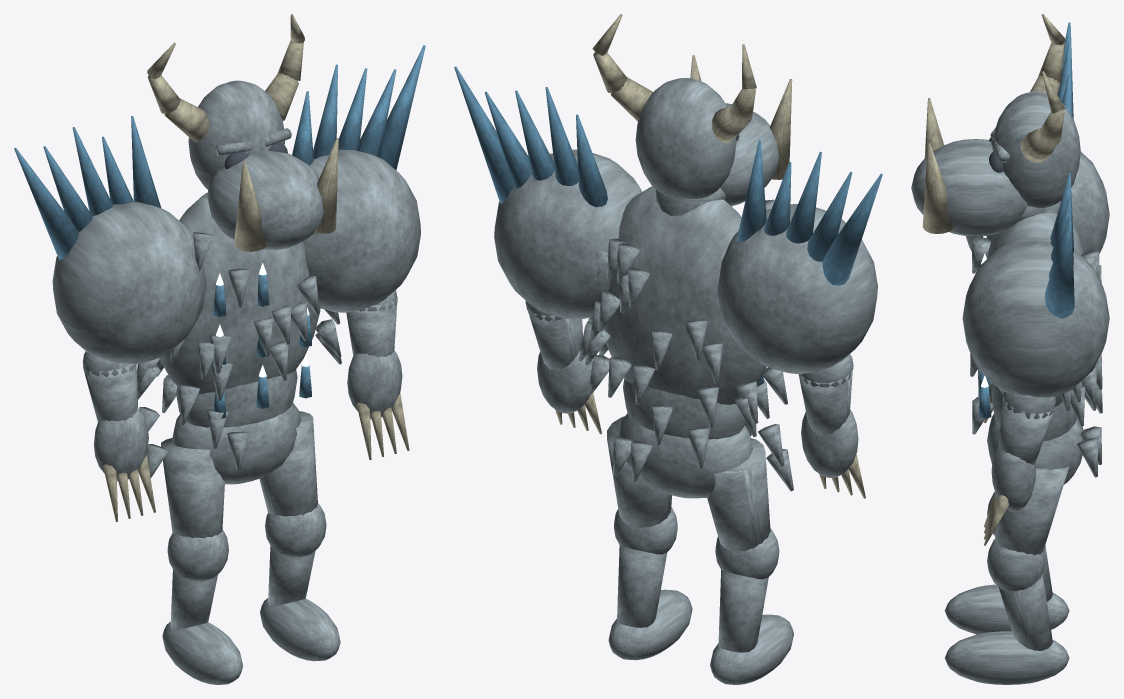
File: enemy_snow_devourer.glb
The picture shows the model from 3 angles, left to right: view 1: azimuth 30°, elevation 25°; view 2: azimuth 150°, elevation 25°; view 3: azimuth 270°, elevation 25°; orthographic projection. The views are drawn at different scales.
Visible parts, largest first — view 1: White_winter_fur.006, White_winter_fur, Blue_glacial_ice, White_winter_fur.005, White_winter_fur.001, White_winter_fur.003, Aged_bone.002, White_winter_fur.002, White_winter_fur.004, Aged_bone.001, Aged_bone; view 2: White_winter_fur.006, White_winter_fur, Blue_glacial_ice, White_winter_fur.001, White_winter_fur.005, White_winter_fur.003, White_winter_fur.002, Aged_bone.002, White_winter_fur.004; view 3: White_winter_fur.006, White_winter_fur.005, White_winter_fur.003, Aged_bone.002, White_winter_fur.004, White_winter_fur, Blue_glacial_ice, White_winter_fur.001, Aged_bone.001.
Boxes of the visible parts, x1,y1,x2,y2 form: White_winter_fur.006: (52,149,420,478); White_winter_fur: (159,192,320,484); Blue_glacial_ice: (14,45,425,418); White_winter_fur.005: (188,80,323,249); White_winter_fur.001: (161,438,242,684); White_winter_fur.003: (259,411,340,661); Aged_bone.002: (147,14,338,251); White_winter_fur.002: (82,351,148,481); White_winter_fur.004: (346,290,402,419); Aged_bone.001: (356,393,409,459); Aged_bone: (103,455,155,521); White_winter_fur.006: (494,149,877,491); White_winter_fur: (604,186,766,498); Blue_glacial_ice: (454,66,882,386); White_winter_fur.001: (707,438,793,684); White_winter_fur.005: (635,78,779,215); White_winter_fur.003: (607,416,692,660); White_winter_fur.002: (798,354,858,477); Aged_bone.002: (592,14,792,179); White_winter_fur.004: (525,301,592,413); White_winter_fur.006: (962,151,1109,477); White_winter_fur.005: (911,91,1080,236); White_winter_fur.003: (945,467,1069,684); Aged_bone.002: (922,14,1064,233); White_winter_fur.004: (991,392,1056,511); White_winter_fur: (987,212,1083,484); Blue_glacial_ice: (978,22,1074,418); White_winter_fur.001: (945,492,1069,634); Aged_bone.001: (984,493,1008,545).
Bounding box in the file's own units: 6.22 × 8.99 × 2.63.
5 materials, 3 textured.
